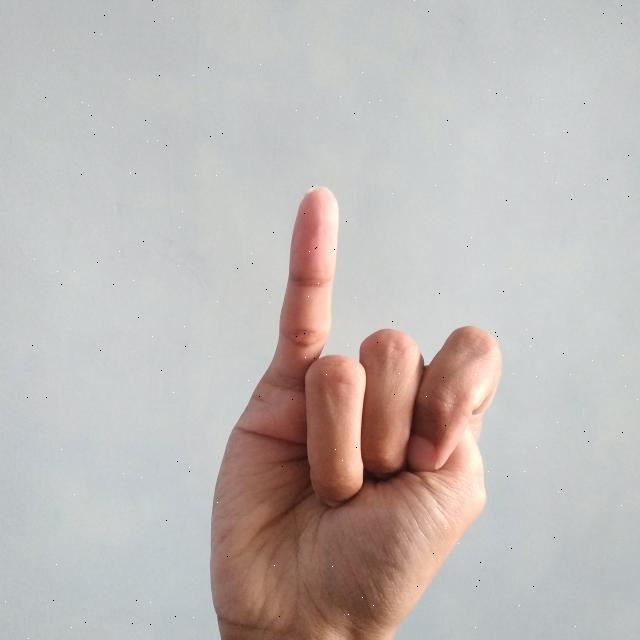I: (202, 180, 504, 640)
